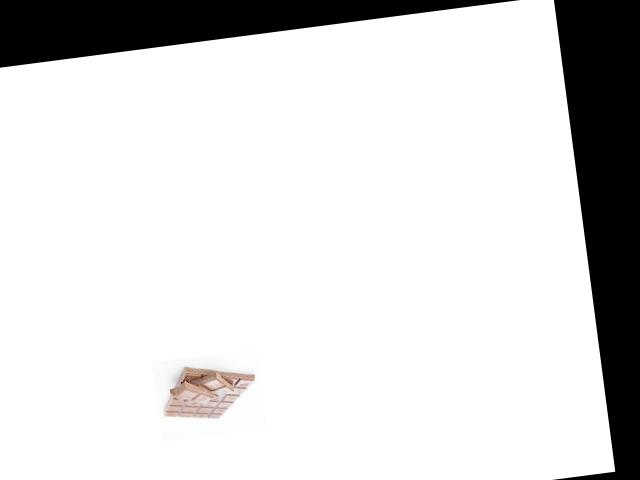chocolate: (156, 353, 261, 430)
